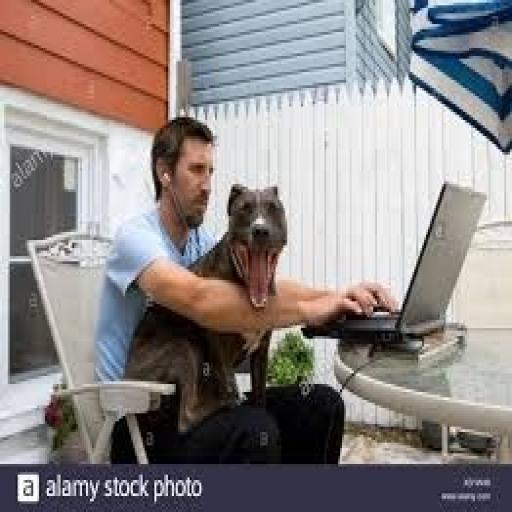using_laptop: (299, 176, 487, 341)
